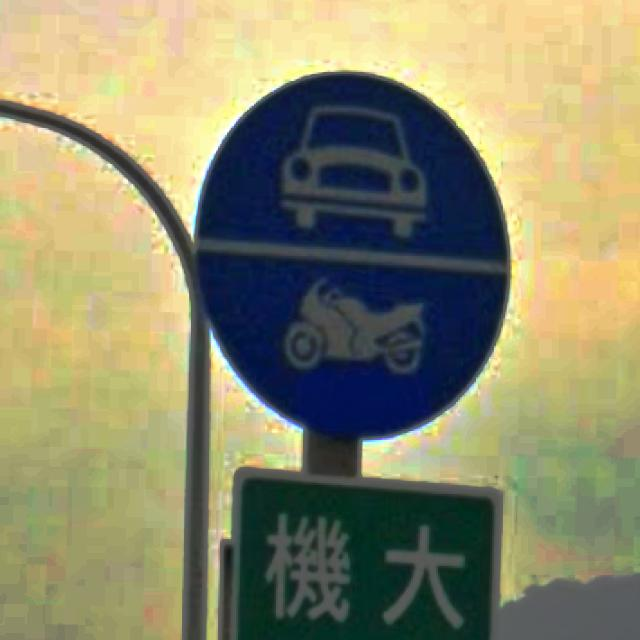carmotorcycle: (197, 74, 508, 438)
